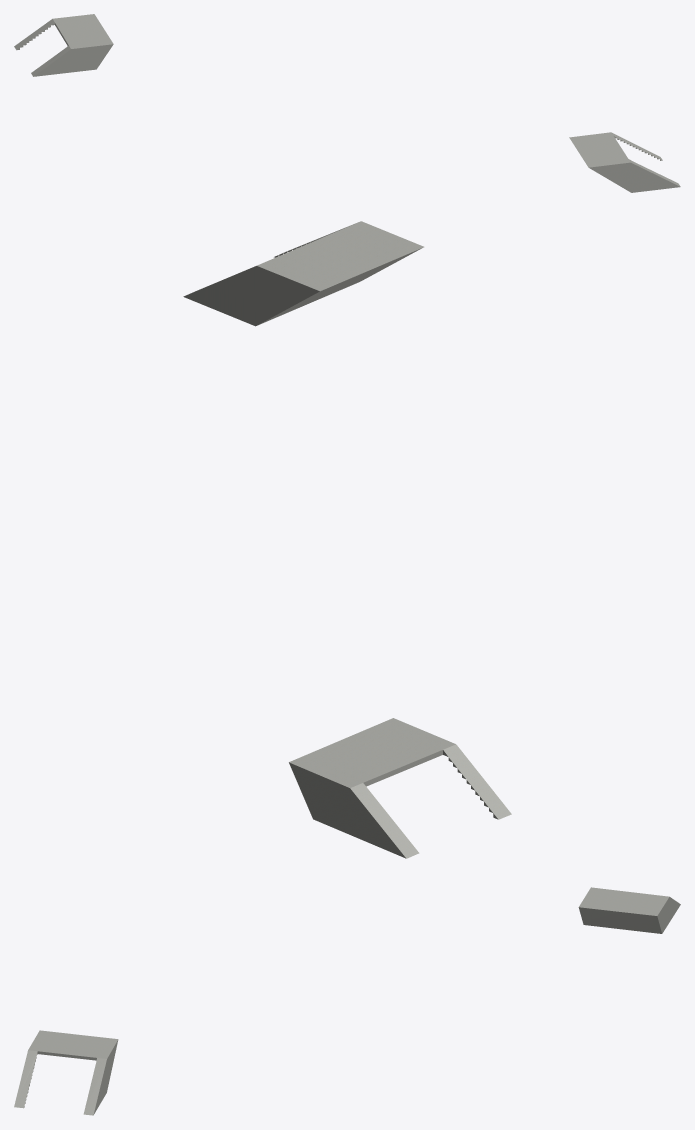
File: kd_stage_1366d7_4_8_bounded.glb
3 views of the same model, one above another, from view 1: azimuth 30°, elevation 25°; view 2: azimuth 150°, elevation 25°; view 3: azimuth 270°, elevation 25° (orthographic). The views are drawn at different scales.
Parts seen in each view (by area): view 1: kd_stage_1366d7_4_8_bounded; view 2: kd_stage_1366d7_4_8_bounded; view 3: kd_stage_1366d7_4_8_bounded.
Part boxes in pixels (<box>): kd_stage_1366d7_4_8_bounded: <box>14,14,680,192</box>; kd_stage_1366d7_4_8_bounded: <box>183,221,511,858</box>; kd_stage_1366d7_4_8_bounded: <box>14,887,680,1115</box>.
Size of the model in its own units: 74.11 by 5.46 by 98.42.
1 material, 1 textured.
